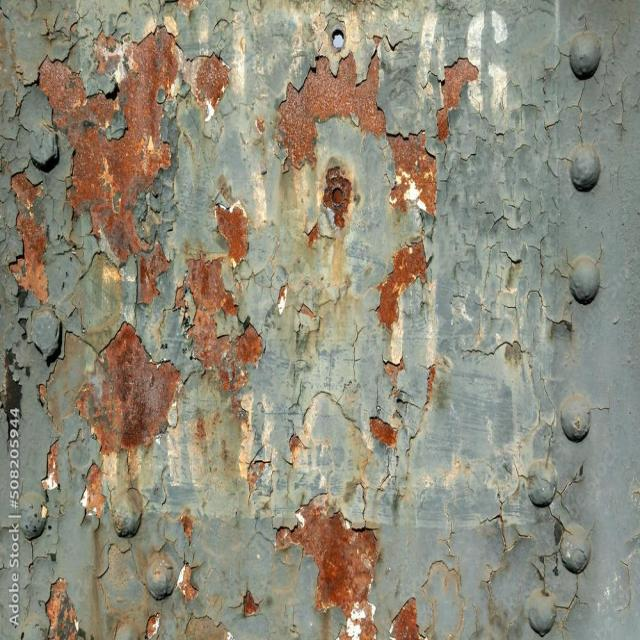Pitting Corrosion: (39, 29, 229, 303), (77, 321, 181, 520), (276, 499, 378, 639), (276, 47, 384, 170), (186, 253, 264, 391), (377, 241, 426, 381), (11, 173, 48, 299), (389, 133, 436, 212), (438, 60, 478, 140), (46, 579, 84, 639), (214, 200, 248, 267), (320, 166, 351, 229), (389, 599, 425, 639), (184, 615, 234, 639), (176, 562, 198, 604), (42, 441, 59, 490), (369, 418, 397, 447), (242, 589, 259, 616), (145, 612, 161, 639), (180, 512, 193, 545)
